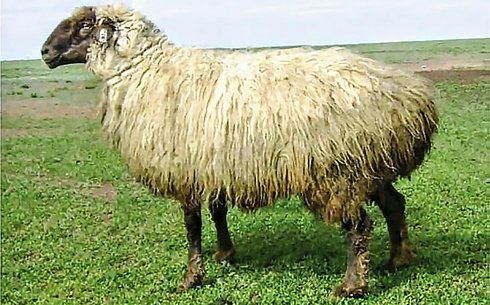sheep: (47, 15, 438, 274)
